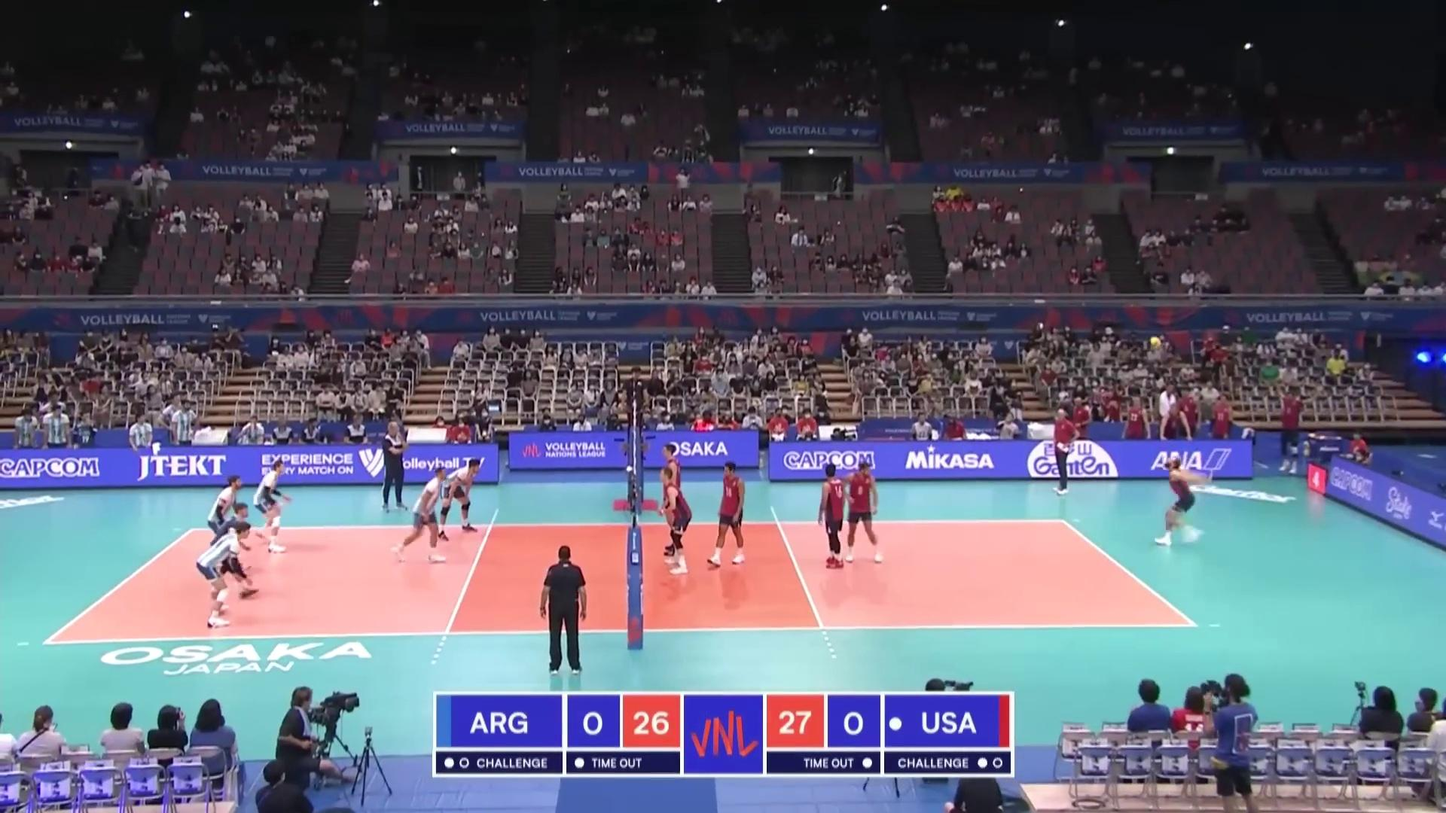player: (191, 523, 249, 627), (391, 467, 446, 566), (1156, 458, 1208, 549), (211, 503, 256, 598), (815, 463, 854, 570), (710, 463, 748, 567), (658, 467, 693, 576), (208, 476, 249, 569), (844, 463, 880, 564), (441, 457, 484, 541), (253, 460, 289, 553), (658, 445, 685, 556)
refree: (537, 547, 584, 676), (621, 367, 648, 446)
